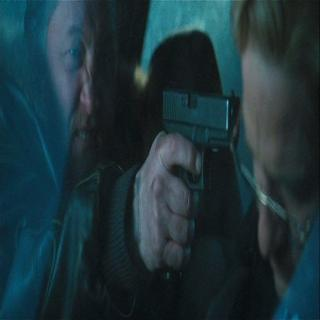gun: (154, 77, 242, 287)
